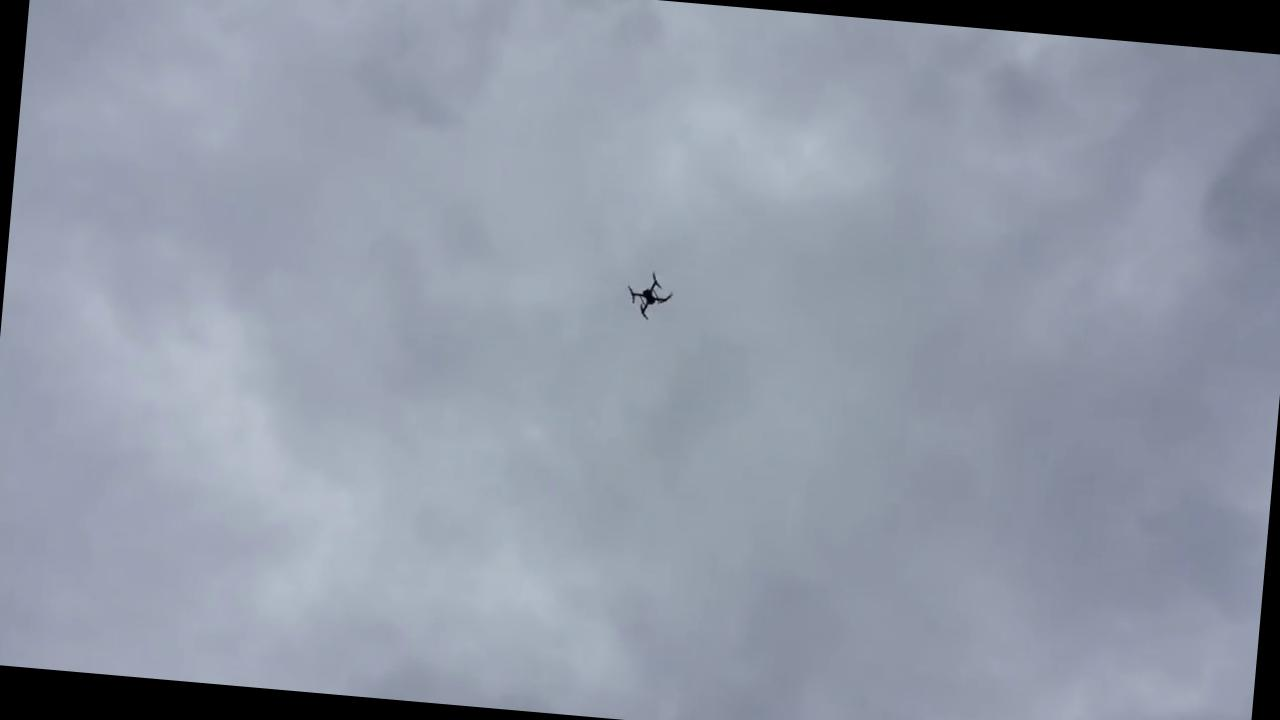drone: (623, 262, 684, 326)
